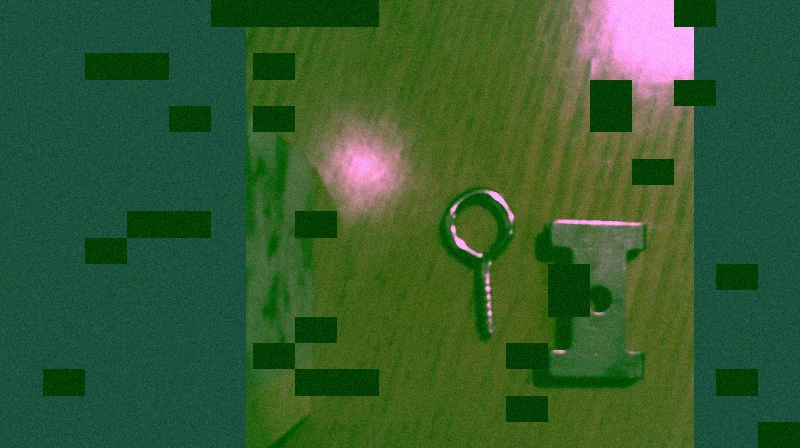O001: (441, 182, 517, 346)
O002: (533, 214, 651, 387)
